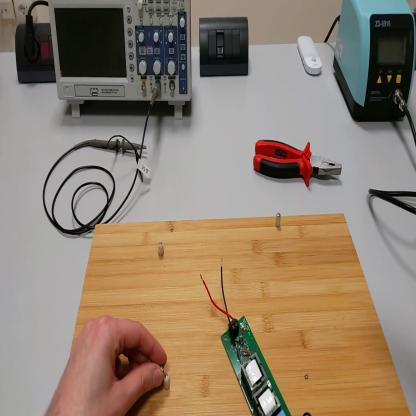hand: (50, 315, 168, 416)
high voltage board: (197, 262, 291, 414)
oscilloscope: (49, 2, 192, 125)
oscilloscope probe tip: (92, 132, 149, 152)
pliers: (252, 134, 345, 189)
socket: (14, 20, 60, 87)
welder station: (336, 1, 416, 125)
working area: (71, 214, 411, 416)
